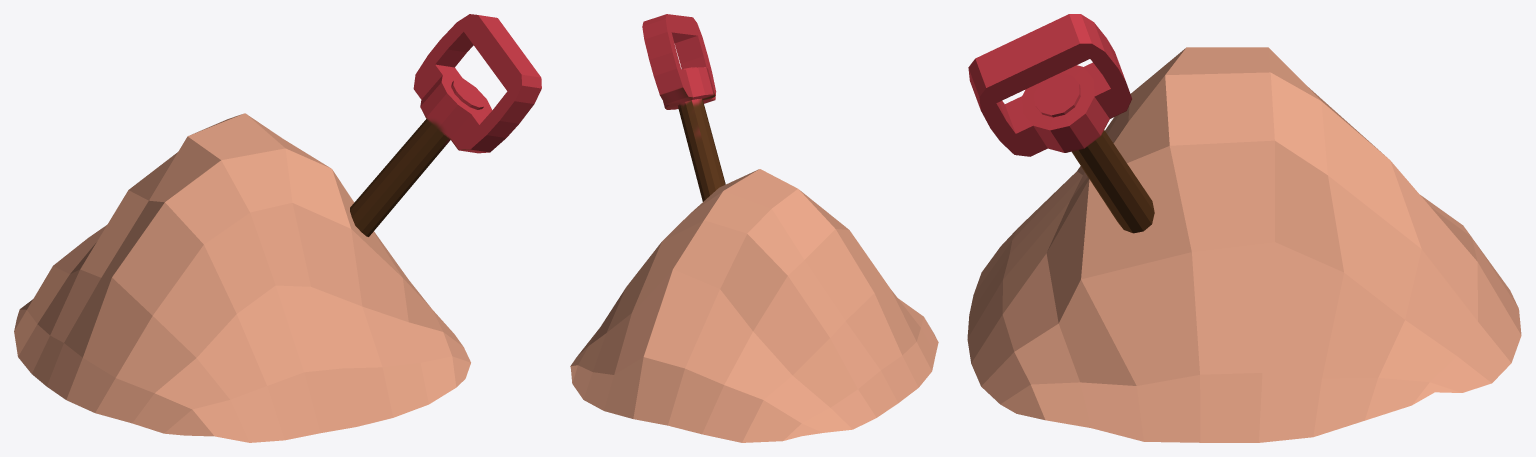
Rendered from Modelado_TierraGusano_001.glb.
3 views of the same model, side by side, from view 1: azimuth 30°, elevation 25°; view 2: azimuth 150°, elevation 25°; view 3: azimuth 270°, elevation 25° (orthographic). The views are drawn at different scales.
Visible parts, largest first — view 1: Modelado_Monticulo_001, Modelado_Pala_001; view 2: Modelado_Monticulo_001, Modelado_Pala_001; view 3: Modelado_Monticulo_001, Modelado_Pala_001.
Part boxes in pixels (<box>): Modelado_Monticulo_001: <box>14,113,470,442</box>; Modelado_Pala_001: <box>350,14,541,236</box>; Modelado_Monticulo_001: <box>570,169,938,442</box>; Modelado_Pala_001: <box>642,14,725,201</box>; Modelado_Monticulo_001: <box>967,47,1521,442</box>; Modelado_Pala_001: <box>968,14,1154,233</box>.
Size of the model in its own units: 11.18 by 9.39 by 11.11.
2 materials, 1 textured.
